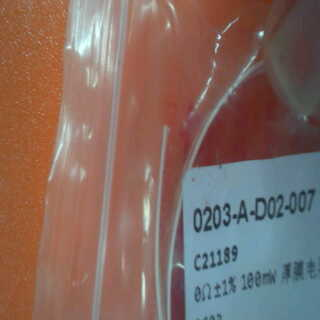0R: (195, 273, 238, 320)
